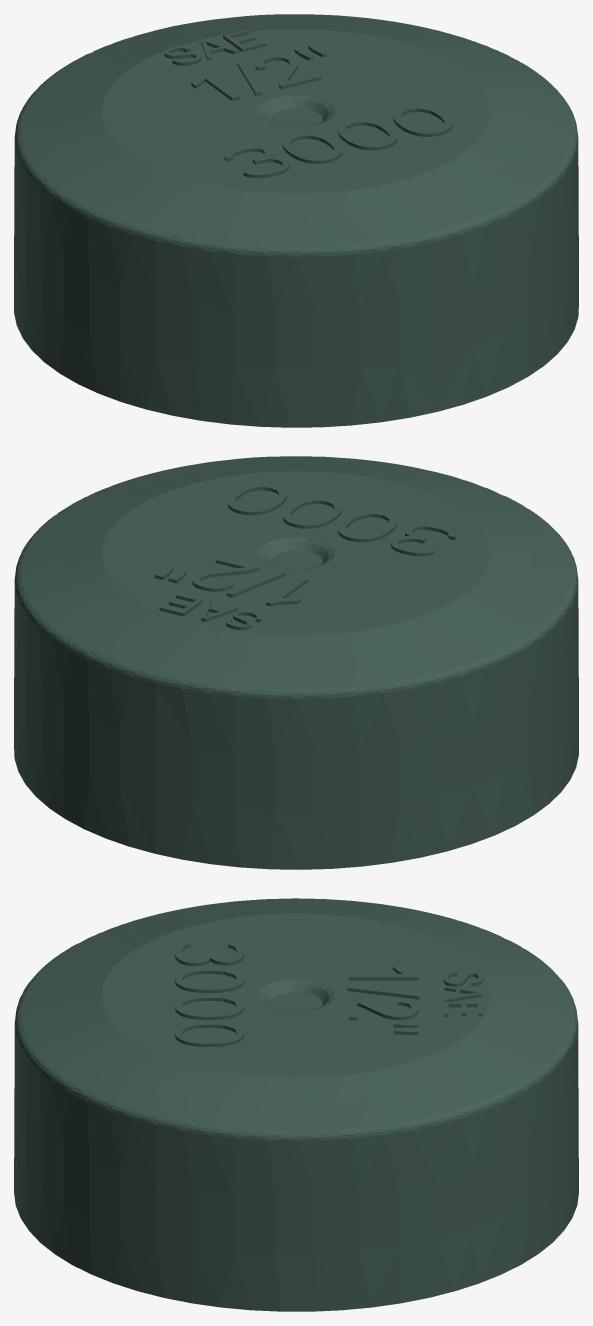
Rendered from SRCALSAEPCR.glb.
3 views of the same model, one above another, from view 1: azimuth 30°, elevation 25°; view 2: azimuth 150°, elevation 25°; view 3: azimuth 270°, elevation 25° (orthographic).
Visible parts, largest first — view 1: 20750848; view 2: 20750848; view 3: 20750848.
Boxes of the visible parts, bbox=[...] form: 20750848: bbox=[14, 14, 578, 427]; 20750848: bbox=[14, 456, 578, 869]; 20750848: bbox=[14, 898, 578, 1311].
Size of the model in its own units: 0.9985 by 0.3908 by 1.
